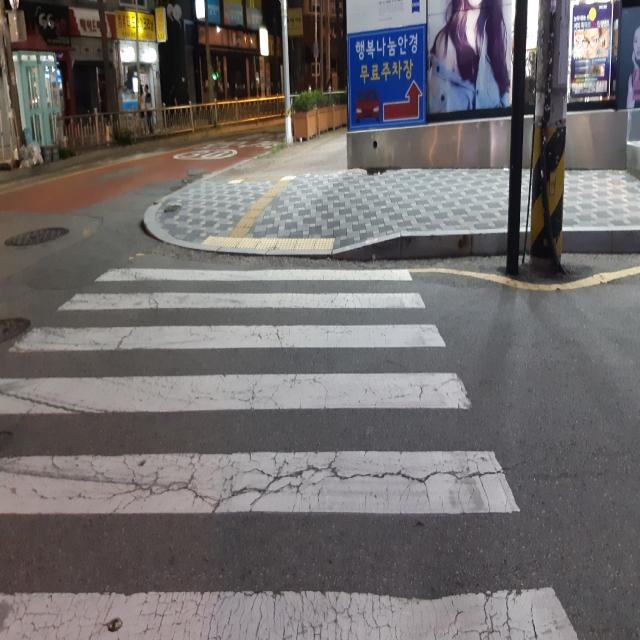횡단보도: (0, 262, 583, 640)
